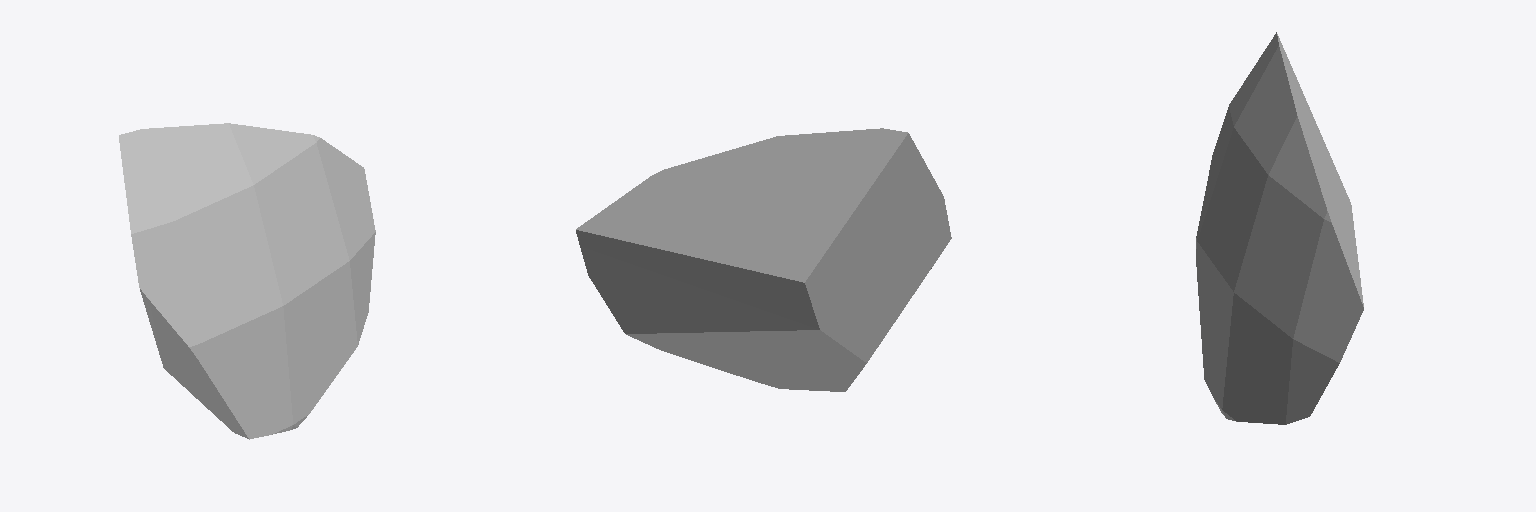
The model's file is Sphere_Cell_Fracture38.obj.
The picture shows the model from 3 angles: view 1: azimuth 30°, elevation 25°; view 2: azimuth 150°, elevation 25°; view 3: azimuth 270°, elevation 25°; orthographic projection.
Size of the model in its own units: 0.5311 by 0.5263 by 0.2574.